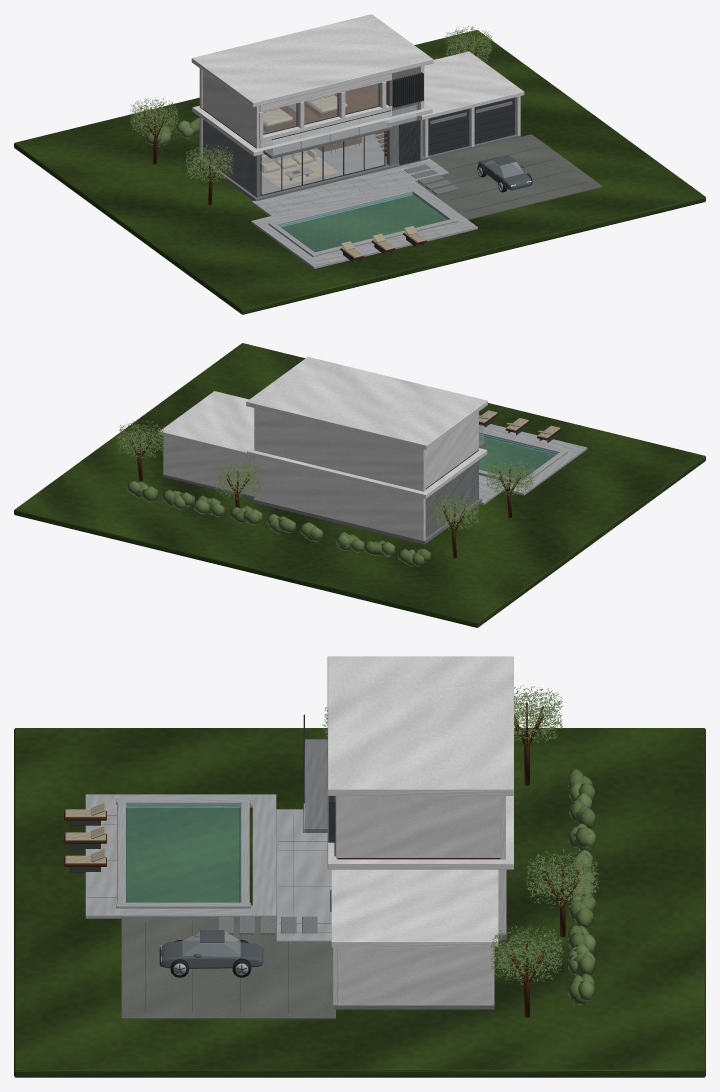
File: villa-bellavista.glb
The picture shows the model from 3 angles, top to bottom: view 1: azimuth 30°, elevation 25°; view 2: azimuth 150°, elevation 25°; view 3: azimuth 270°, elevation 25°; orthographic projection. The views are drawn at different scales.
Visible parts, largest first — view 1: Web - Fine lawn, Web - White mineral plaster, Web - Honed grey limestone, Web - Architectural clear glass, Web - Light grey stone terrace, Web - Architectural concrete, Web - Charcoal aluminium frames, Web - Clear turquoise pool water, Web - Olive foliage 0, Web - Natural linen upholstery, Web - Thermally treated oak, Web - Textured graphite exterior panels (+2 smaller); view 2: Web - Fine lawn, Web - White mineral plaster, Web - Olive foliage 0, Web - Honed grey limestone, Web - Light grey stone terrace, Web - Clear turquoise pool water, Web - Thermally treated oak, Web - Olive foliage 1, Web - Olive foliage 2, Web - Olive foliage 3, Web - Natural linen upholstery; view 3: Web - Fine lawn, Web - White mineral plaster, Web - Light grey stone terrace, Web - Architectural concrete, Web - Clear turquoise pool water, Web - Olive foliage 0, Web - Honed grey limestone, Web - Graphite metallic paint, Web - Thermally treated oak, Web - Olive foliage 2, Web - Olive foliage 1, Web - Natural linen upholstery (+3 smaller).
Part boxes in pixels (x1,y1,x2,y2): Web - Fine lawn: [14, 30, 705, 314]; Web - White mineral plaster: [191, 14, 524, 157]; Web - Honed grey limestone: [198, 66, 520, 201]; Web - Architectural clear glass: [262, 84, 523, 194]; Web - Light grey stone terrace: [251, 158, 477, 268]; Web - Architectural concrete: [269, 134, 602, 261]; Web - Charcoal aluminium frames: [260, 83, 587, 262]; Web - Clear turquoise pool water: [281, 194, 446, 251]; Web - Olive foliage 0: [130, 26, 492, 182]; Web - Natural linen upholstery: [260, 94, 426, 257]; Web - Thermally treated oak: [143, 39, 480, 259]; Web - Textured graphite exterior panels: [392, 72, 423, 164]; Web - Fine lawn: [14, 343, 705, 627]; Web - White mineral plaster: [159, 357, 487, 540]; Web - Olive foliage 0: [117, 420, 534, 566]; Web - Honed grey limestone: [163, 440, 485, 544]; Web - Light grey stone terrace: [479, 424, 587, 504]; Web - Clear turquoise pool water: [479, 436, 555, 479]; Web - Thermally treated oak: [129, 413, 560, 558]; Web - Olive foliage 1: [142, 486, 415, 566]; Web - Olive foliage 2: [127, 481, 414, 553]; Web - Olive foliage 3: [141, 484, 395, 556]; Web - Natural linen upholstery: [479, 410, 560, 438]; Web - Fine lawn: [14, 728, 705, 1077]; Web - White mineral plaster: [327, 656, 513, 1005]; Web - Light grey stone terrace: [85, 794, 331, 941]; Web - Architectural concrete: [87, 814, 335, 1019]; Web - Clear turquoise pool water: [127, 806, 239, 902]; Web - Olive foliage 0: [322, 685, 598, 1004]; Web - Honed grey limestone: [218, 739, 506, 1009]; Web - Graphite metallic paint: [159, 930, 263, 968]; Web - Thermally treated oak: [64, 702, 579, 1017]; Web - Olive foliage 2: [568, 782, 594, 1001]; Web - Olive foliage 1: [568, 782, 595, 986]; Web - Natural linen upholstery: [65, 803, 105, 863].
Size of the model in its own units: 34 by 8.3 by 29.
Materials: 20 (8 with a texture image).
